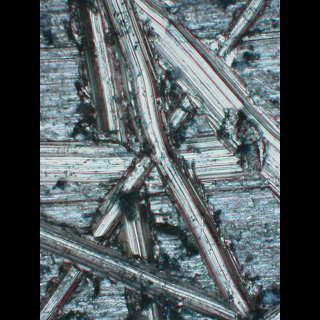d: (101, 1, 255, 319), (139, 0, 279, 210), (41, 209, 240, 320), (74, 1, 127, 146)
